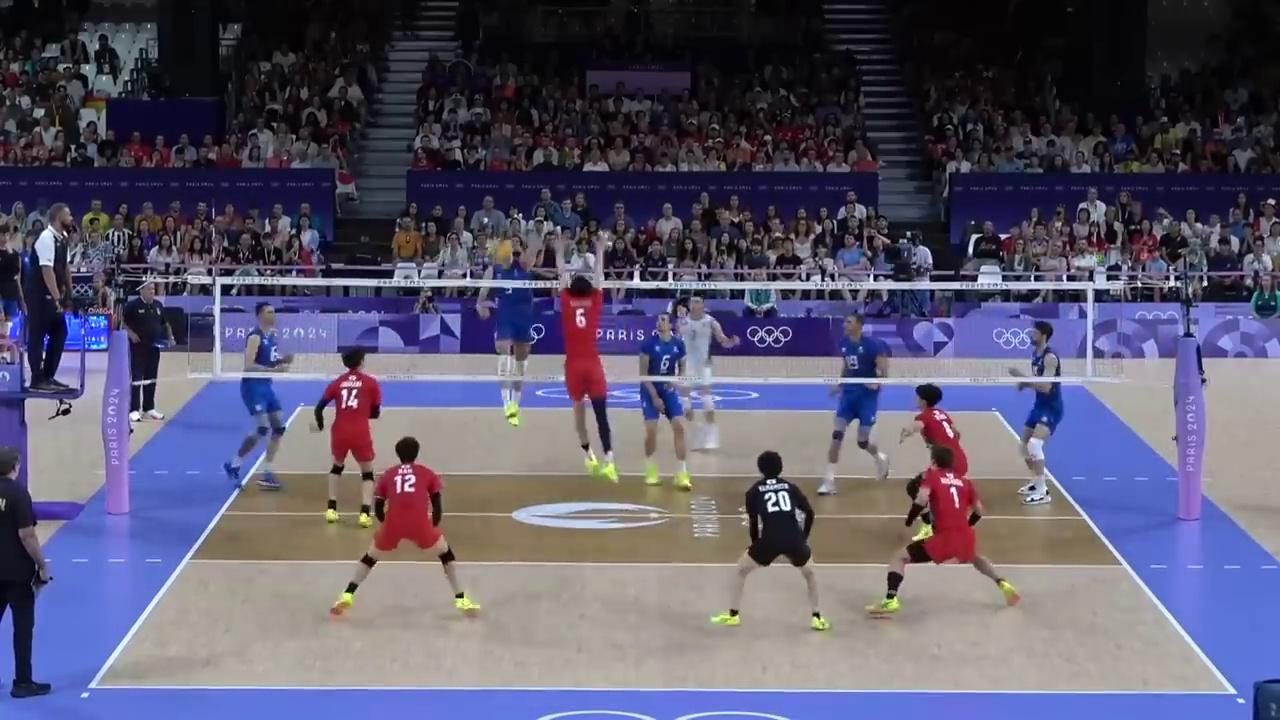ball: (495, 239, 516, 265)
